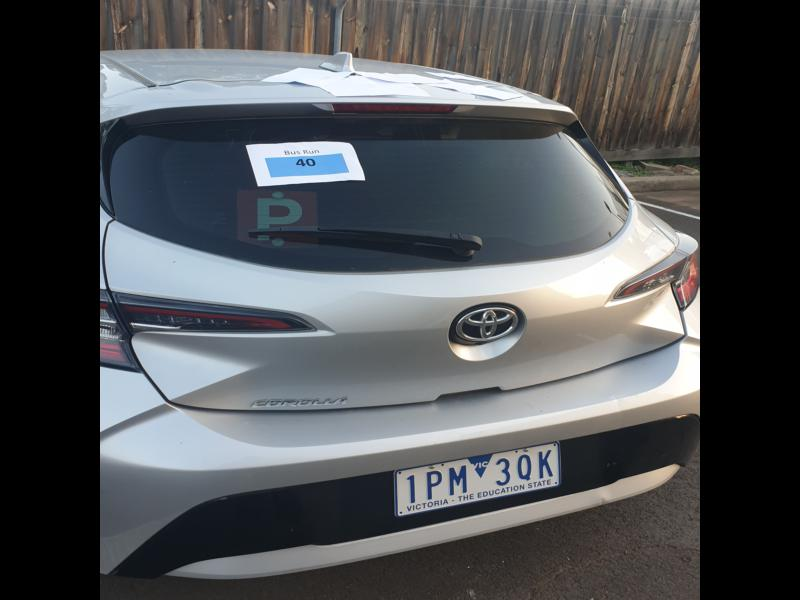BusRun: (265, 152, 352, 180)
PlateNo: (394, 442, 563, 517)
